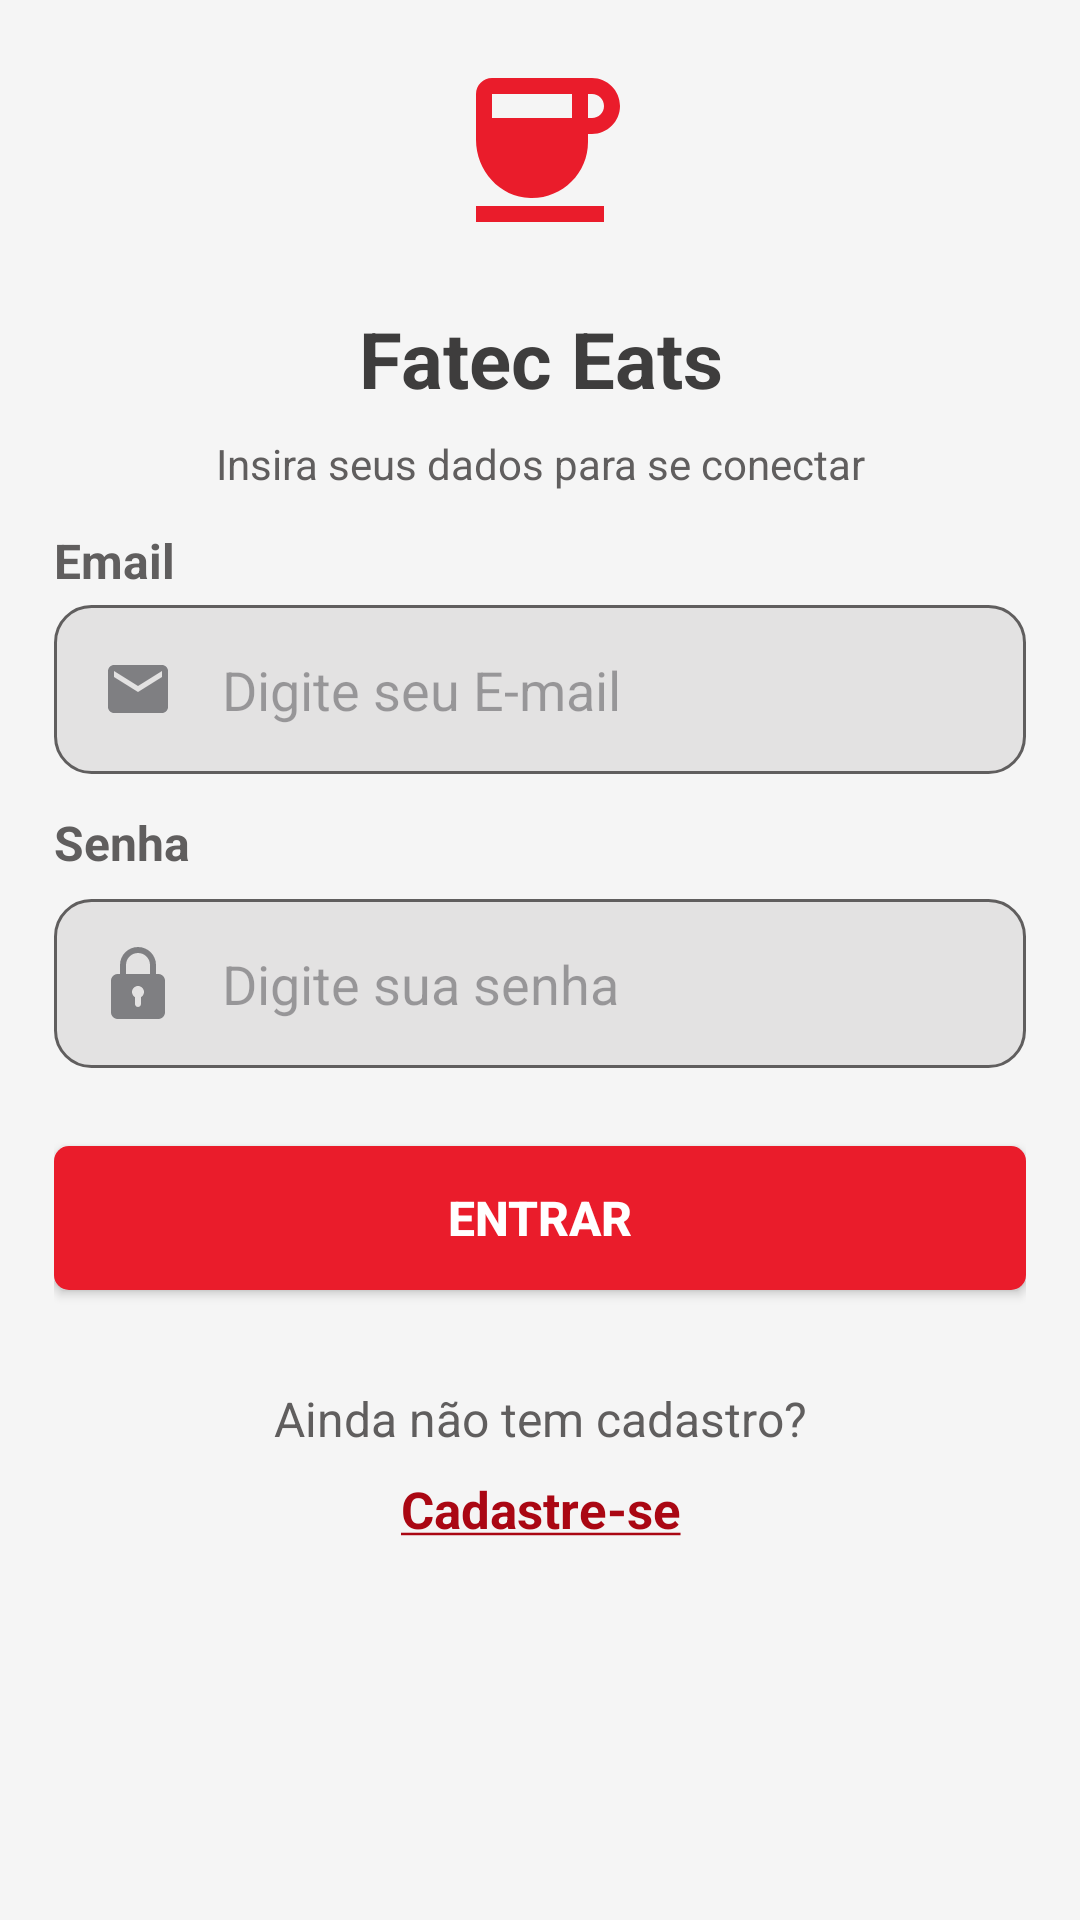

Icon click points for this 1080w x 1920h phone screenshot, format point (x, y):
coffee: point (548, 150)
